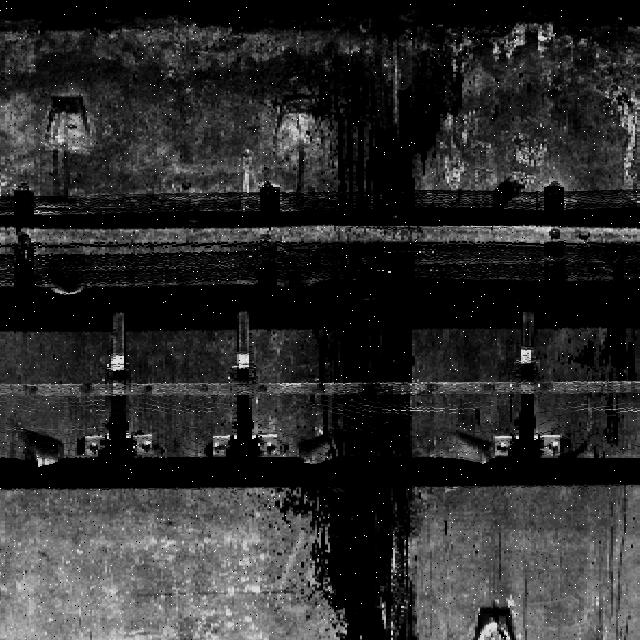leakage: (297, 64, 463, 639)
